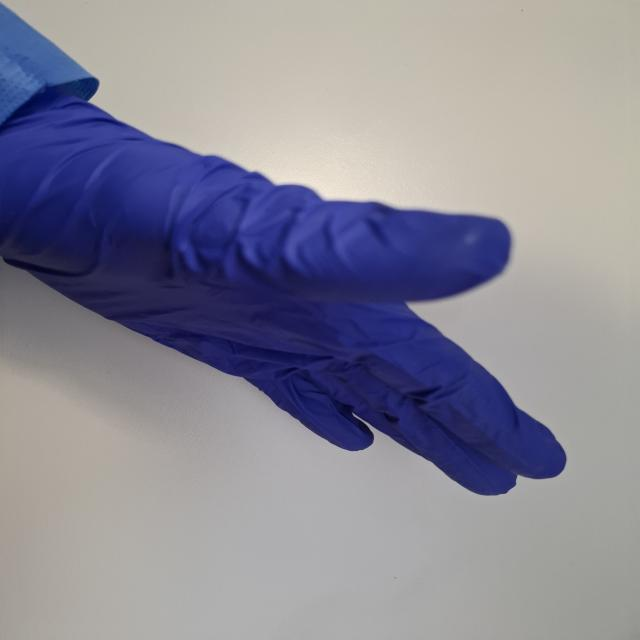glove_on: (0, 91, 570, 498)
